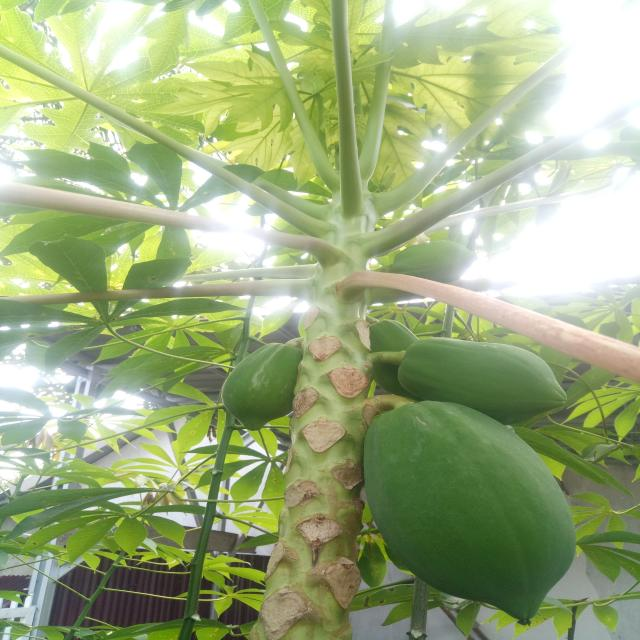Pepaya unrippen: (364, 402, 572, 628), (385, 334, 572, 420), (224, 343, 306, 435)
